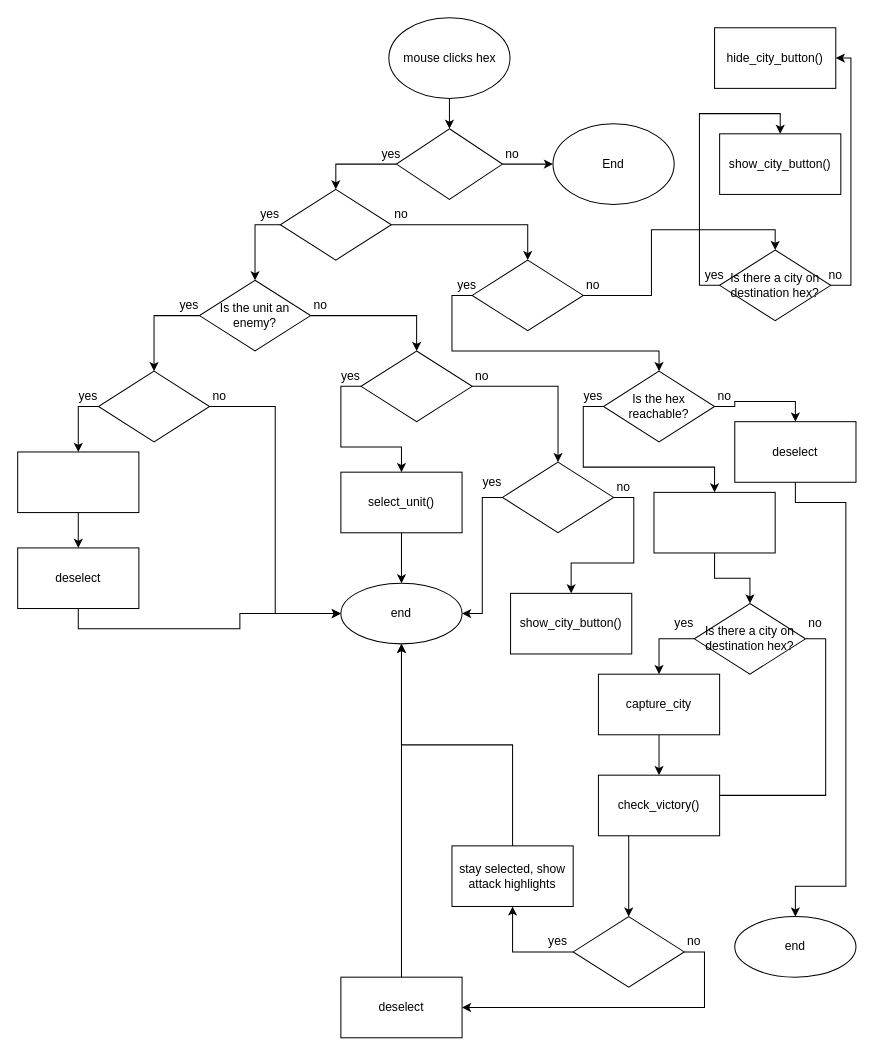
The diagram is 884 pixels wide and 1055 high, and some of its shapes have lost their labels. The centre of each missing label's shape, as x and y in pixels:
"Are there enemies in attack range?" goes at point 628,951.
"attack_unit()" goes at point 78,482.
"Do I have a unit selected AND is it in attack range?" goes at point 153,406.
"Do I have a unit selected?" goes at point 527,295.
"Has it already moved?" goes at point 416,386.
"Is there a unit on the hex?" goes at point 335,224.
"Move unit along path" goes at point 714,522.
"not in grid?" goes at point 448,163.
"Standing on player city?" goes at point 557,497.
